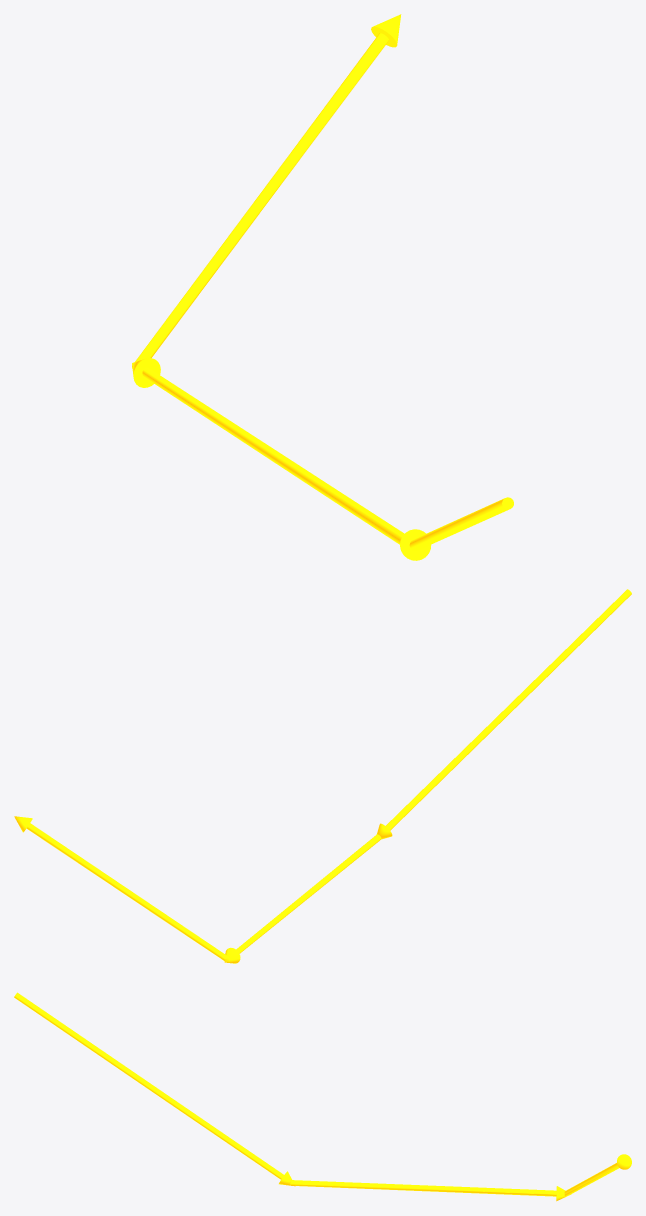
File: vibration_monitoring_system_flow.glb
The picture shows the model from 3 angles, top to bottom: view 1: azimuth 30°, elevation 25°; view 2: azimuth 150°, elevation 25°; view 3: azimuth 270°, elevation 25°; orthographic projection. The views are drawn at different scales.
Parts seen in each view (by area): view 1: signal_cable; view 2: signal_cable; view 3: signal_cable.
Part boxes in pixels (x1=…): signal_cable: x1=132, y1=14, x2=513, y2=560; signal_cable: x1=14, y1=589, x2=631, y2=963; signal_cable: x1=14, y1=992, x2=631, y2=1201.
Bounding box in the file's own units: 0.4827 × 0.2967 × 1.01.
